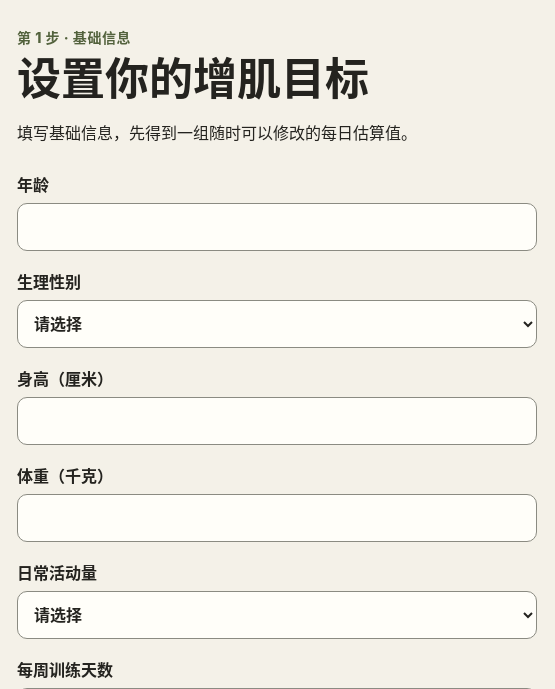
Test: OnboardingPage › prompts the user to use manual targets when biological sex is not selected
Type "30" into the number field labelled "年龄".
click(277, 227); type("30")  # box left=17, top=203, right=537, bottom=251
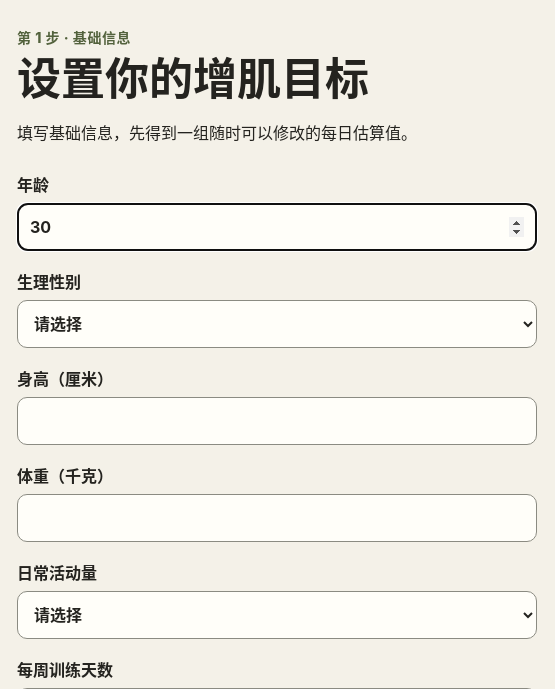
Type "175" into the number field labelled "身高（厘米）".
click(277, 421); type("175")  # box left=17, top=397, right=537, bottom=445
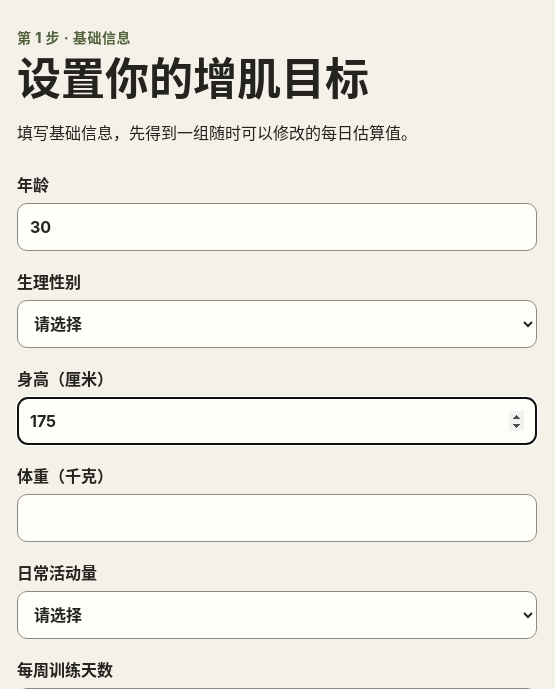
Type "70" into the number field labelled "体重（千克）".
click(277, 518); type("70")  # box left=17, top=494, right=537, bottom=542
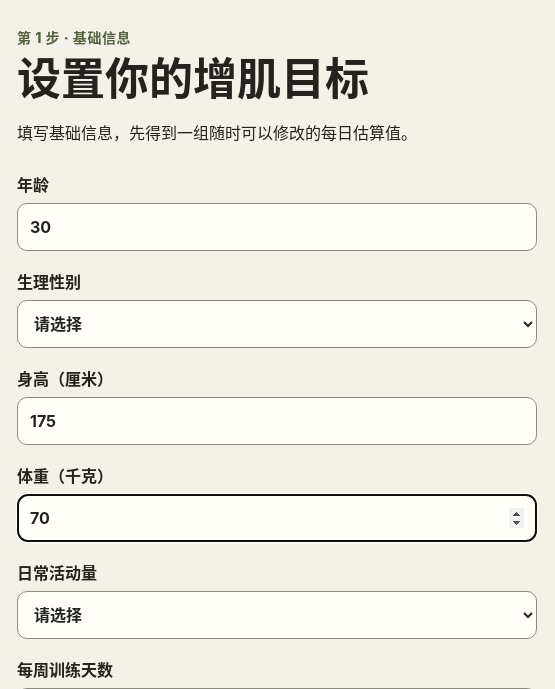
Select "每周中等运动 3–5 次" in the dropdown labelled "日常活动量" at x=277, y=615, box left=17, top=591, right=537, bottom=639
(page scrolled)
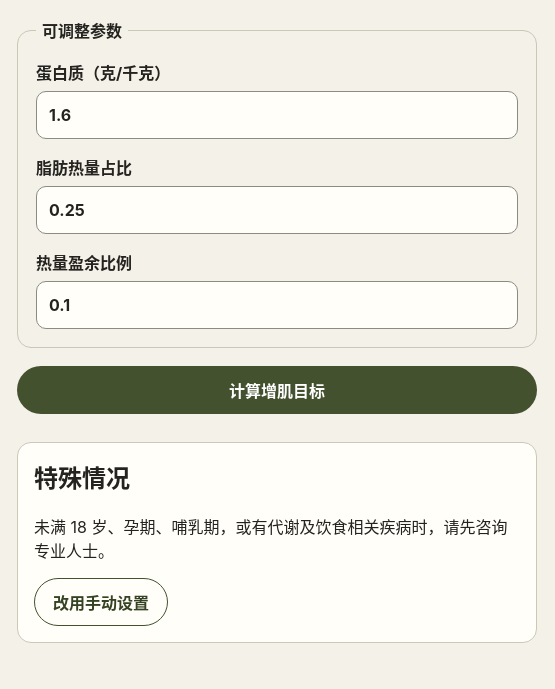
Click the button "计算增肌目标".
click(277, 390)  # box left=17, top=366, right=537, bottom=414
(page scrolled)
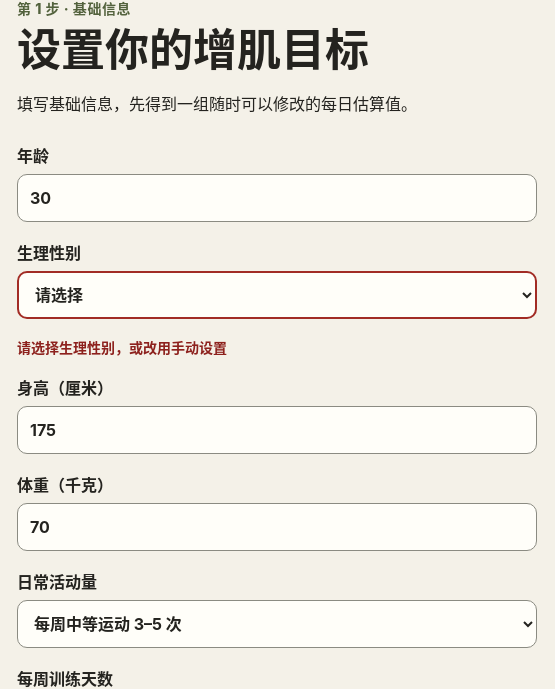
Expected: the text "请选择生理性别，或改用手动设置" is shown, left=17, top=339, right=227, bottom=356
